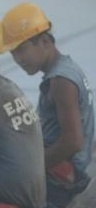boots: (0, 190, 33, 208), (0, 194, 27, 208)
gloves: (0, 152, 16, 190), (0, 155, 16, 193)
hard-hat: (0, 0, 51, 50)
